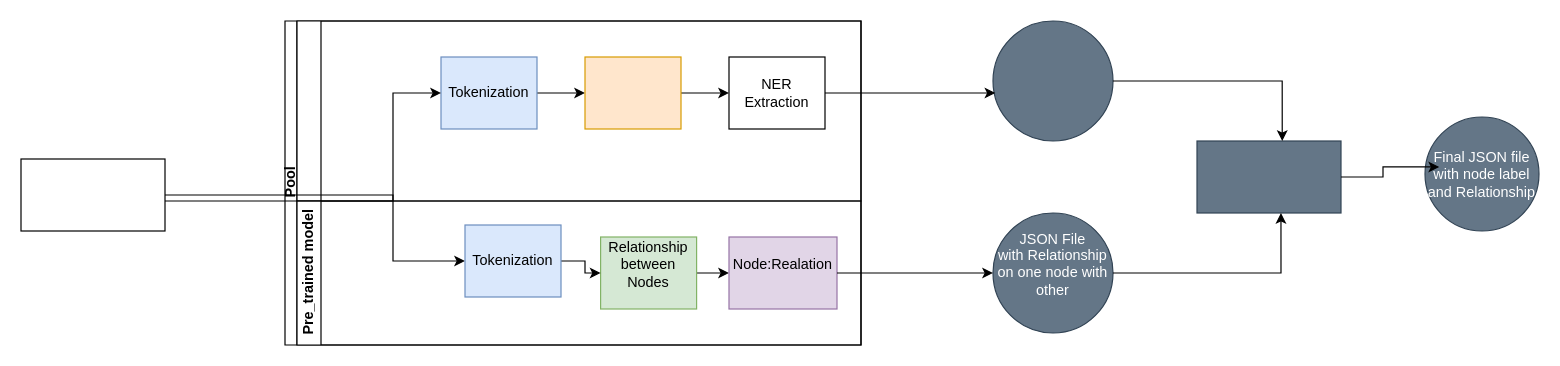
Some shapes in this 1560 by 366 pixel diagram are drawn without their labels. The box of each missing label's shape, as (x1, y1, x2, y2) in pixels:
difference of two json file(Graph1-Graph2): (1196, 140, 1341, 213)
JSON file with nodes and NER TAG: (992, 20, 1113, 141)
NER code: (296, 20, 861, 201)
Text Cleaning: (584, 56, 681, 129)
unstructured News Text: (20, 158, 165, 231)
